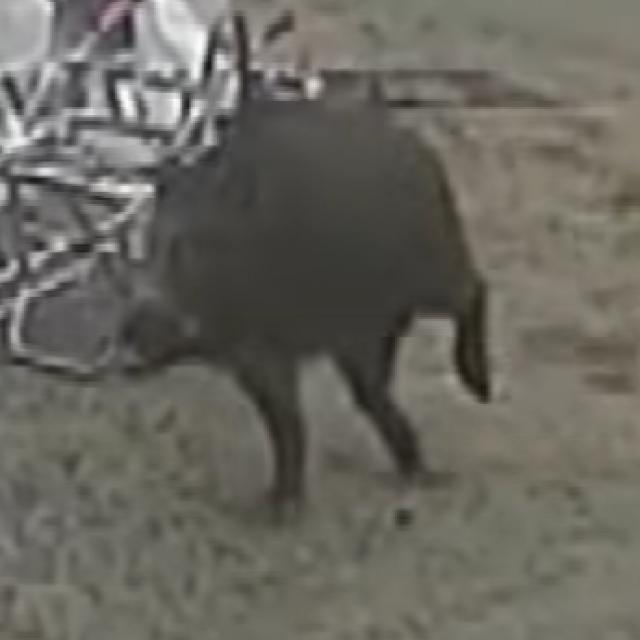boar: (51, 59, 520, 484)
